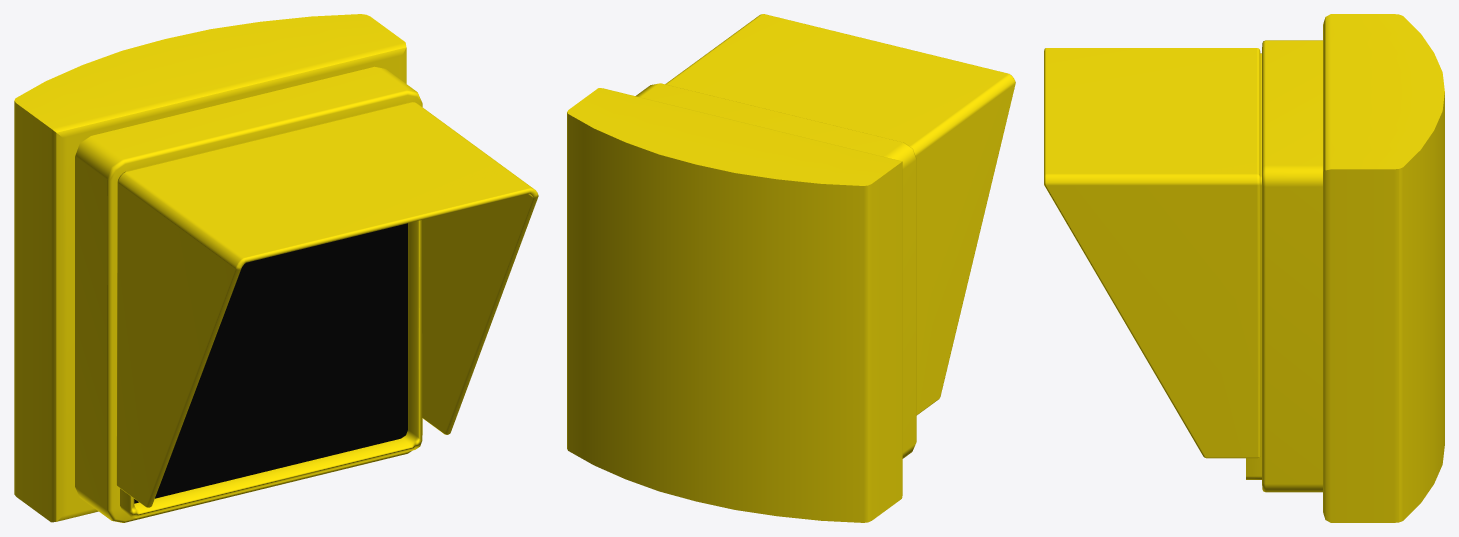
The model's file is pedestrianLight.fbx.
3 renders of one model, left to right at view 1: azimuth 30°, elevation 25°; view 2: azimuth 150°, elevation 25°; view 3: azimuth 270°, elevation 25°, orthographic. The views are drawn at different scales.
Visible parts, largest first — view 1: pedestrianLight_LOD_0; view 2: pedestrianLight_LOD_0; view 3: pedestrianLight_LOD_0.
Boxes of the visible parts, x1,y1,x2,y2 form: pedestrianLight_LOD_0: [14, 14, 538, 522]; pedestrianLight_LOD_0: [567, 14, 1015, 522]; pedestrianLight_LOD_0: [1044, 14, 1444, 522].
Bounding box in the file's own units: 22.53 × 23.92 × 24.57.
